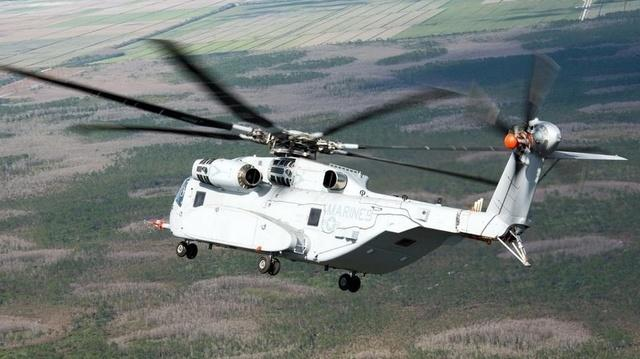airplane: (3, 44, 628, 287)
